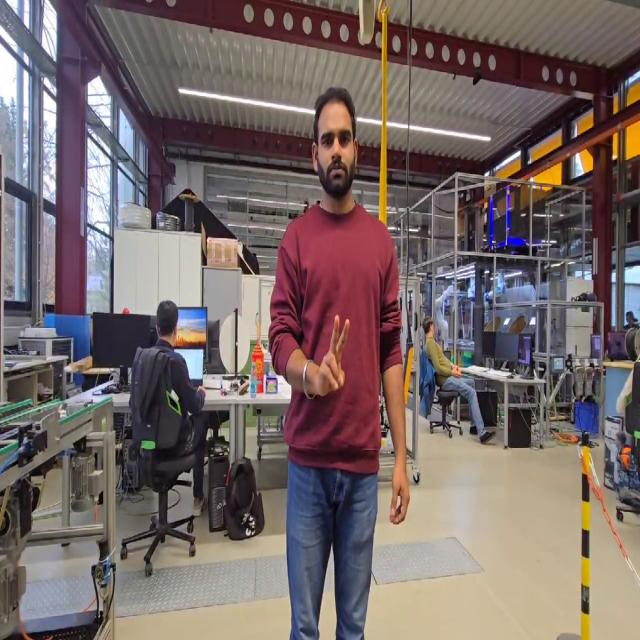v_sign: (312, 310, 352, 402)
